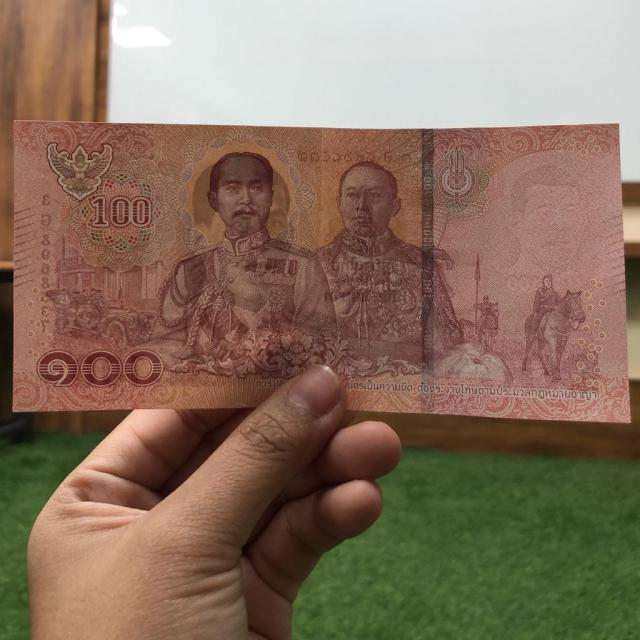THAI100: (14, 121, 629, 423)
